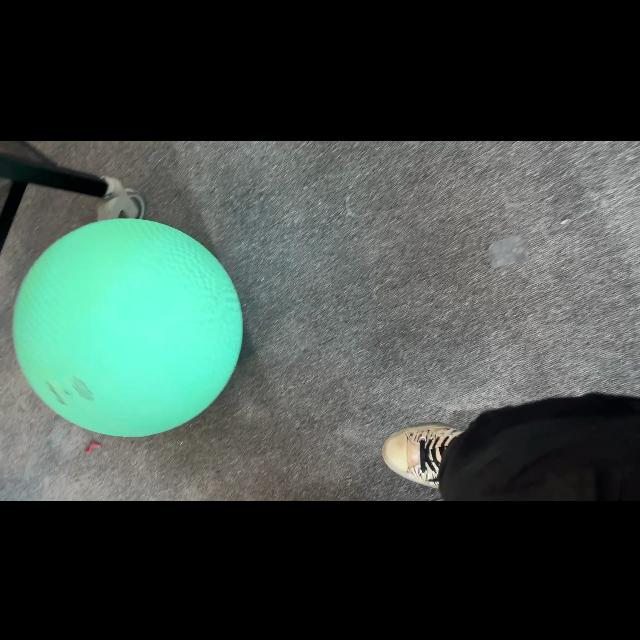ALGAE: (12, 217, 244, 438)
